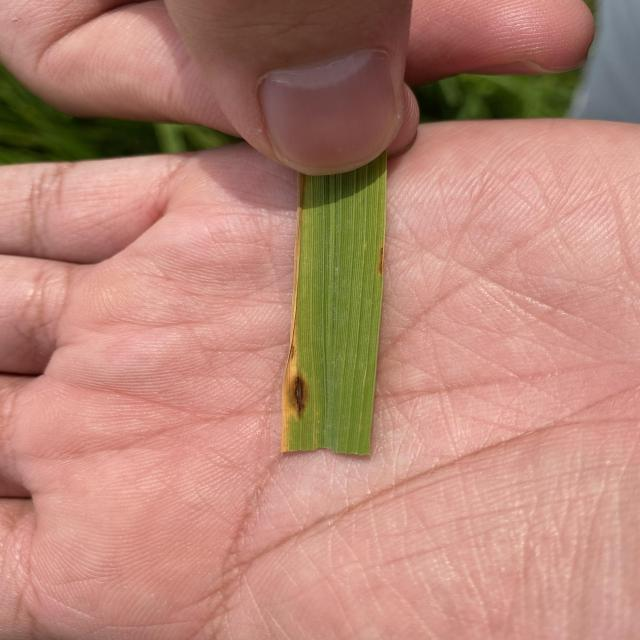Dom nau: (285, 371, 308, 422)
